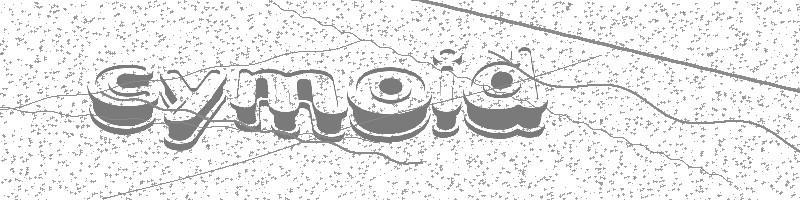c: (86, 63, 160, 137)
d: (462, 46, 549, 139)
i: (432, 47, 462, 140)
m: (230, 67, 348, 144)
o: (348, 67, 432, 144)
y: (157, 67, 227, 152)
